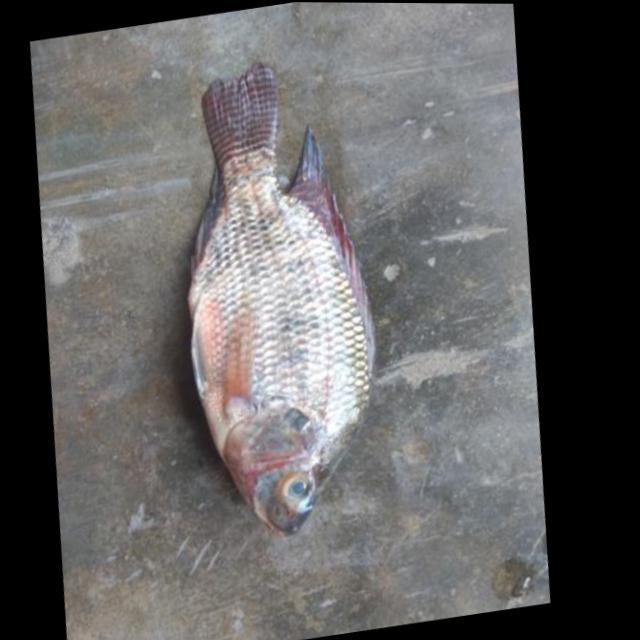Tilapia: (120, 42, 433, 554)
